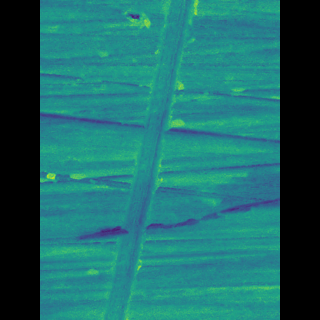Loch: (116, 0, 193, 320), (70, 235, 249, 273), (128, 0, 155, 33)
